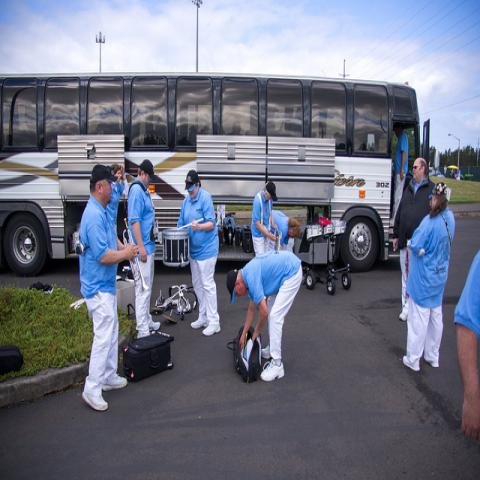bus: (0, 72, 429, 276)
